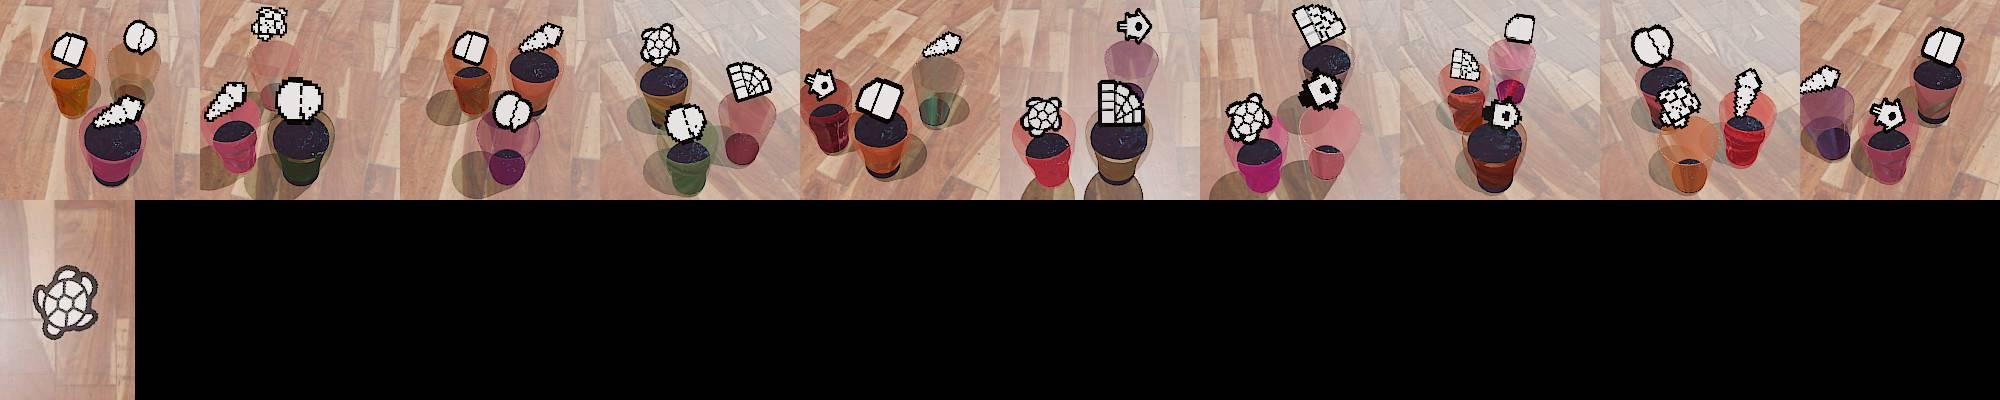icon: (31, 264, 101, 339), (854, 75, 906, 127), (1097, 77, 1146, 127), (272, 76, 325, 122), (1225, 92, 1271, 143), (1293, 2, 1344, 48), (1656, 81, 1702, 129), (204, 79, 248, 123), (1630, 24, 1674, 68), (638, 22, 681, 66), (663, 101, 707, 143), (491, 89, 535, 131), (726, 60, 771, 101), (1021, 94, 1063, 136), (1921, 26, 1964, 67), (91, 94, 144, 127), (1731, 66, 1763, 120), (516, 22, 565, 56), (1302, 72, 1343, 111), (451, 29, 490, 68), (50, 31, 89, 68), (1482, 96, 1522, 132), (251, 6, 289, 42), (1799, 64, 1841, 96), (1116, 7, 1152, 44), (1871, 97, 1908, 131), (123, 19, 157, 55), (803, 67, 838, 101), (921, 30, 962, 59), (1504, 13, 1537, 47), (1449, 46, 1480, 82)
